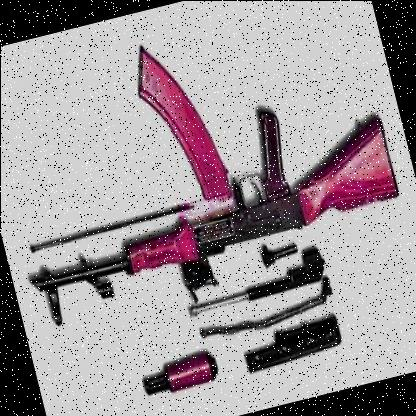rifle: (0, 0, 416, 336)
